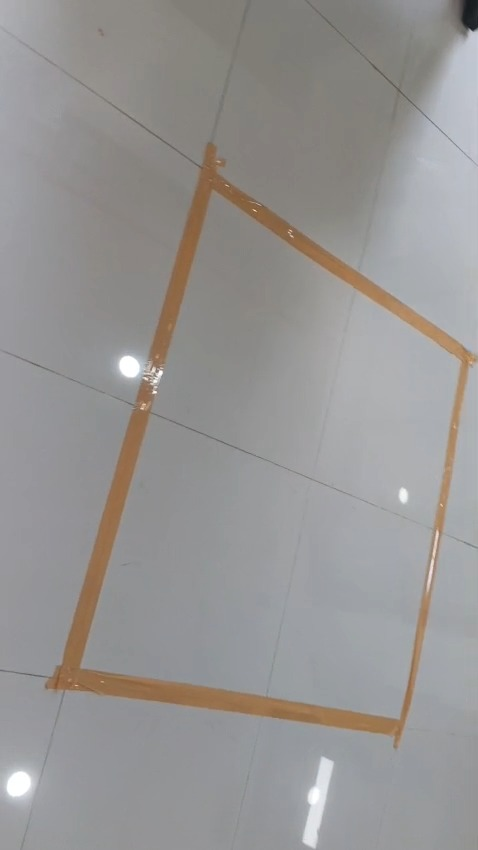floor marking: (47, 143, 477, 746)
